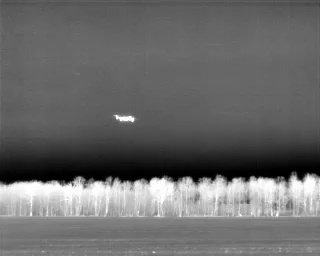DRONE: (110, 110, 140, 127)
